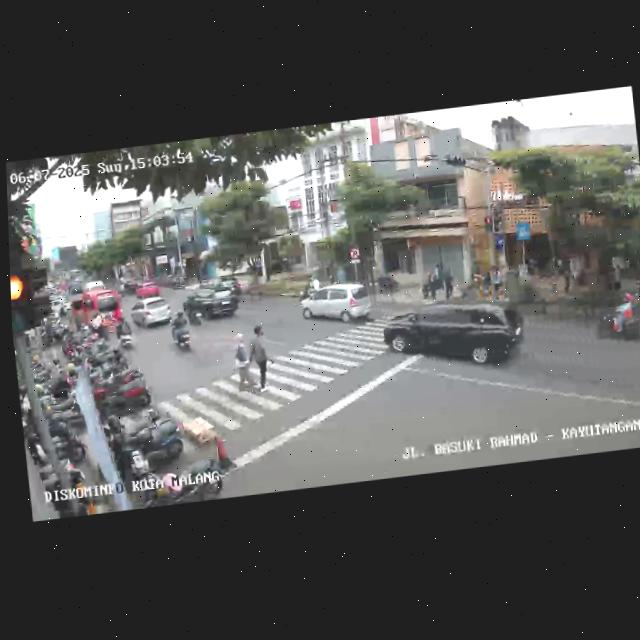car: (380, 293, 526, 382), (299, 280, 371, 333), (181, 283, 241, 328), (68, 287, 123, 331), (129, 295, 174, 331)
motorcycle: (591, 285, 640, 349), (168, 309, 193, 352), (115, 313, 136, 353)
person: (228, 330, 255, 395), (248, 324, 272, 391)
